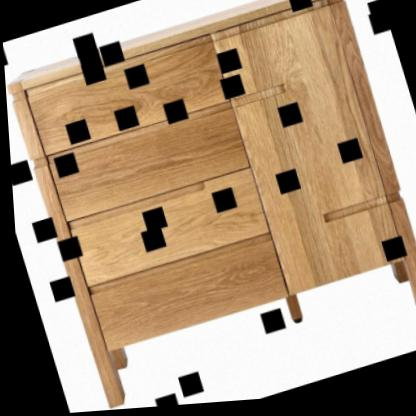Sideboard: (5, 0, 416, 411)
